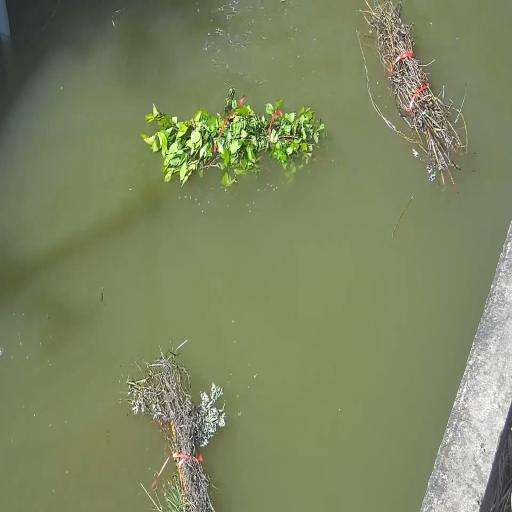twig: (362, 0, 466, 184), (118, 334, 224, 512), (151, 88, 323, 171)
